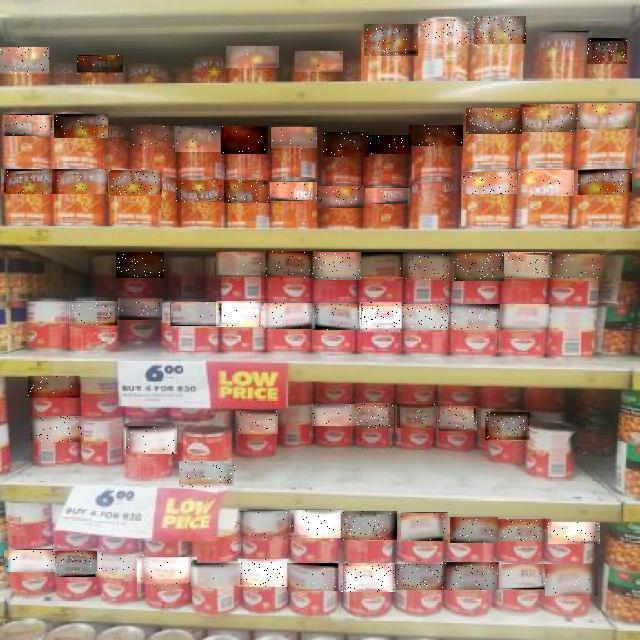Beans: (365, 24, 419, 56), (545, 564, 598, 596), (137, 558, 197, 586), (341, 511, 397, 540), (341, 563, 397, 592), (520, 105, 577, 133), (238, 512, 294, 540), (443, 562, 499, 590), (539, 31, 592, 60), (291, 510, 345, 538), (288, 563, 342, 591), (578, 103, 636, 129), (238, 559, 291, 587), (180, 462, 236, 488), (466, 108, 522, 134), (518, 170, 574, 196), (474, 16, 526, 44), (418, 18, 474, 44), (126, 426, 177, 454), (30, 416, 84, 442), (1, 169, 57, 194), (52, 169, 108, 194), (266, 252, 316, 280), (454, 253, 504, 281), (109, 170, 162, 196), (0, 48, 49, 76), (579, 170, 633, 195), (402, 513, 450, 541), (222, 126, 270, 154), (313, 252, 361, 280), (405, 252, 453, 280), (549, 254, 605, 278), (497, 565, 548, 591), (396, 565, 446, 591), (502, 253, 552, 279), (216, 301, 266, 327), (264, 303, 314, 329), (54, 114, 108, 138), (451, 305, 500, 331), (500, 305, 549, 331), (485, 412, 530, 440), (360, 302, 402, 332), (216, 252, 266, 277), (450, 517, 498, 543), (175, 126, 223, 152), (116, 253, 164, 279), (170, 302, 222, 326), (313, 305, 359, 331), (497, 519, 551, 541), (463, 172, 517, 194), (403, 304, 448, 330), (226, 46, 279, 68), (70, 302, 118, 326), (323, 132, 369, 157), (357, 252, 403, 277), (548, 522, 600, 544), (4, 550, 56, 572), (28, 376, 80, 398), (409, 125, 463, 146), (191, 563, 240, 586), (98, 554, 144, 578), (55, 551, 97, 577), (131, 126, 180, 148), (224, 180, 270, 203), (295, 52, 343, 74), (176, 180, 224, 202), (587, 38, 627, 64), (3, 115, 52, 136), (271, 128, 317, 150), (319, 187, 365, 209), (438, 406, 477, 431), (312, 405, 356, 427), (118, 298, 162, 320), (237, 411, 279, 434), (397, 404, 437, 428), (356, 403, 394, 428), (268, 182, 317, 201), (77, 56, 123, 76), (369, 135, 411, 154), (365, 188, 410, 204)
